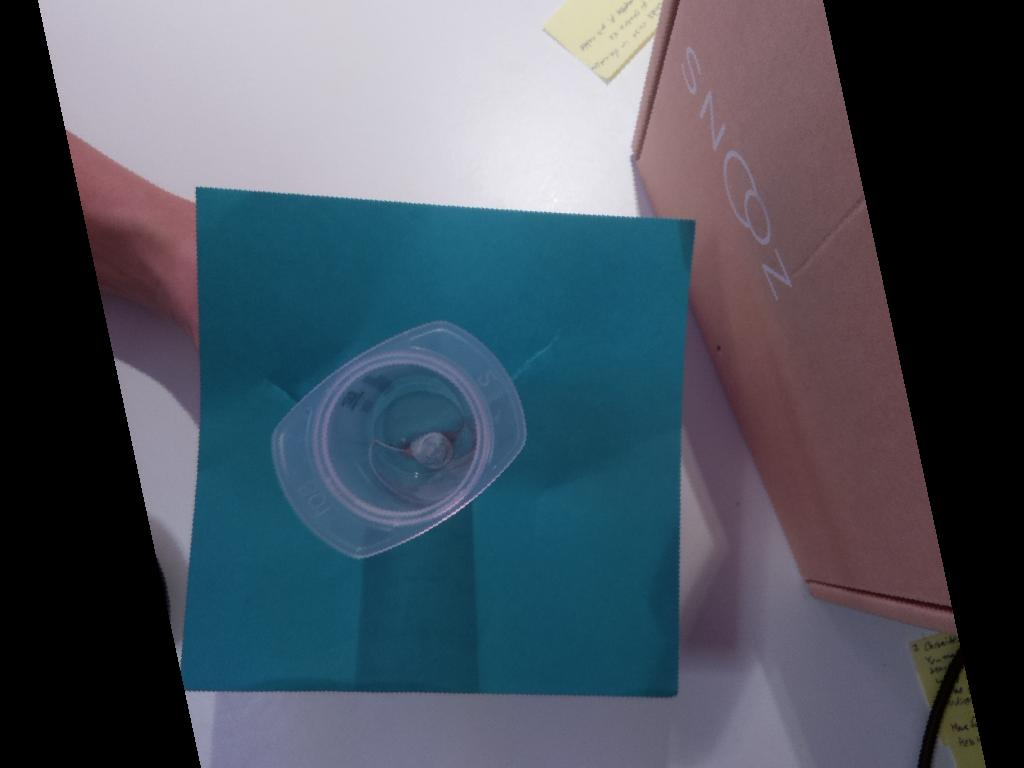clean: (270, 318, 528, 559)
